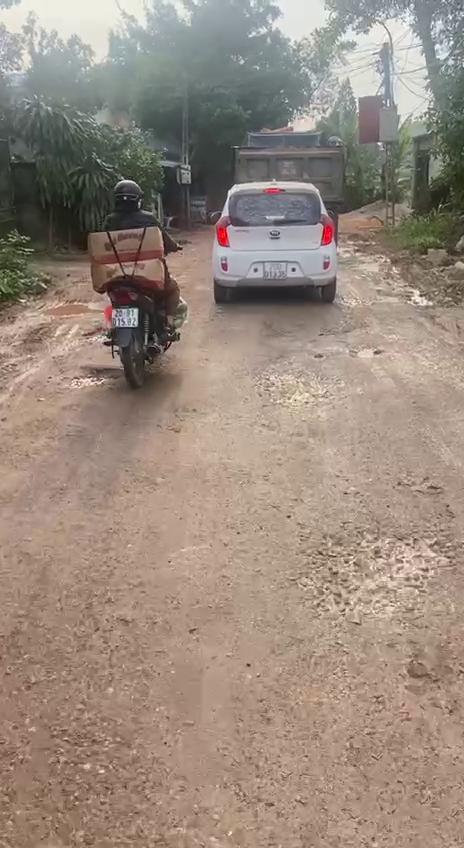pothole: (304, 516, 456, 612)
